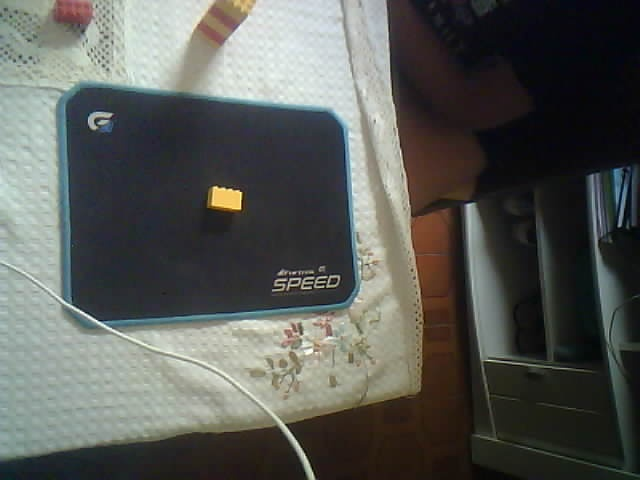lego: (192, 1, 257, 50), (205, 185, 243, 213), (52, 1, 93, 24)
